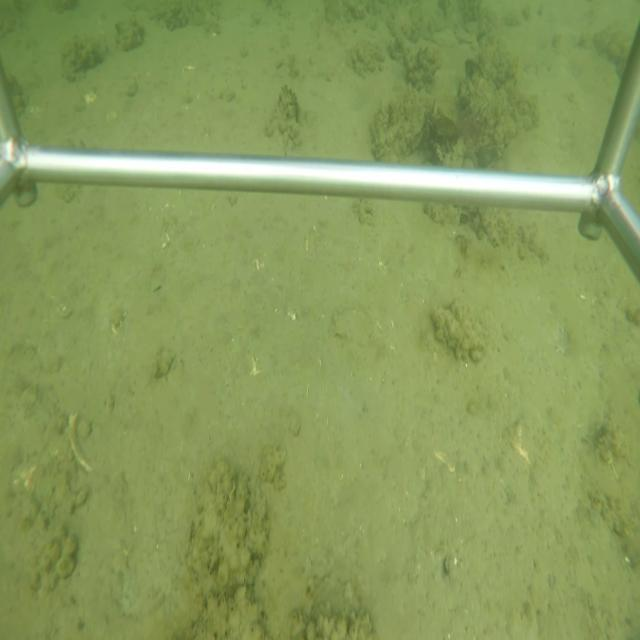Oyster-Closed: (378, 84, 438, 160)
